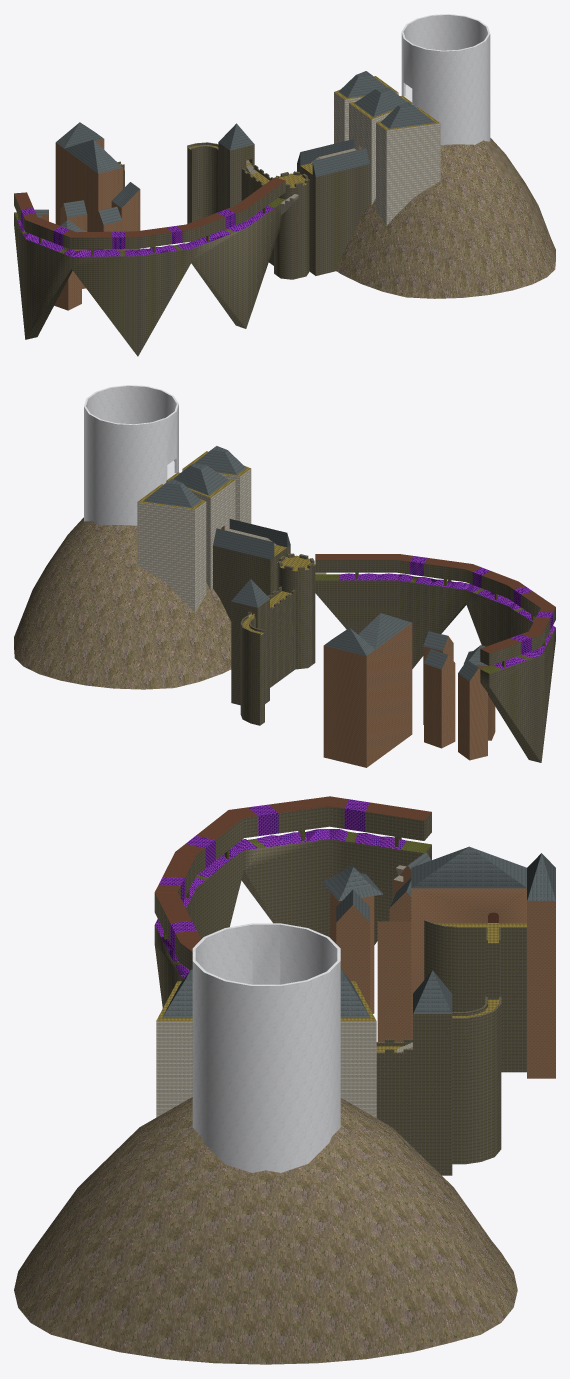
File: room1.fbx
3 renders of one model, top to bottom at view 1: azimuth 30°, elevation 25°; view 2: azimuth 150°, elevation 25°; view 3: azimuth 270°, elevation 25°, orthographic. The views are drawn at different scales.
Parts seen in each view (by area): view 1: Line001, Plane002, Object017, Group001, Box012, Object010, Object, Box003, Object004, Box004, Box009, Box005 (+2 smaller); view 2: Plane002, Line001, Object010, Group001, Object017, Box012, Box006, Object, Box010, Box003, Object004, Box001 (+2 smaller); view 3: Plane002, Object017, Line001, Object010, Object009, Group001, Box003, Object004, Box004, Box001, Box005, Box009 (+1 smaller).
Part boxes in pixels (left/top/right/bottom): Line001: left=14, top=177, right=298, bottom=356; Plane002: left=335, top=138, right=555, bottom=298; Object017: left=401, top=14, right=490, bottom=145; Group001: left=334, top=71, right=440, bottom=225; Box012: left=297, top=139, right=369, bottom=275; Object010: left=55, top=122, right=122, bottom=250; Object: left=274, top=173, right=309, bottom=279; Box003: left=187, top=142, right=218, bottom=223; Object004: left=218, top=123, right=254, bottom=211; Box004: left=111, top=182, right=140, bottom=250; Box009: left=54, top=220, right=87, bottom=310; Box005: left=93, top=206, right=122, bottom=250; Plane002: left=14, top=517, right=231, bottom=689; Line001: left=315, top=554, right=555, bottom=762; Object010: left=323, top=613, right=412, bottom=767; Group001: left=137, top=446, right=251, bottom=611; Object017: left=84, top=385, right=178, bottom=525; Box012: left=213, top=519, right=290, bottom=621; Box006: left=424, top=649, right=455, bottom=748; Object: left=277, top=555, right=315, bottom=669; Box010: left=458, top=660, right=487, bottom=760; Box003: left=240, top=615, right=264, bottom=725; Object004: left=231, top=579, right=269, bottom=705; Box001: left=248, top=586, right=295, bottom=687; Plane002: left=14, top=1097, right=517, bottom=1364; Object017: left=192, top=923, right=340, bottom=1172; Line001: left=154, top=796, right=431, bottom=1008; Object010: left=411, top=846, right=555, bottom=1078; Object009: left=424, top=920, right=526, bottom=1072; Group001: left=156, top=969, right=376, bottom=1117; Box003: left=452, top=996, right=501, bottom=1164; Object004: left=413, top=970, right=452, bottom=1175; Box004: left=377, top=921, right=411, bottom=1041; Box001: left=376, top=1038, right=412, bottom=1146; Box005: left=336, top=889, right=369, bottom=1007; Box009: left=321, top=865, right=382, bottom=1013.
Size of what is drawn, in the model's own units: 10130 by 4460 by 5792.
Materials: 11 (11 with a texture image).
